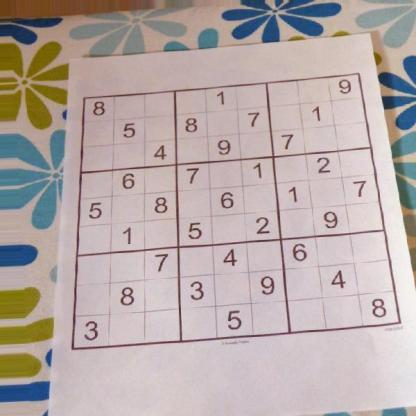sudoku: (67, 72, 402, 353)
